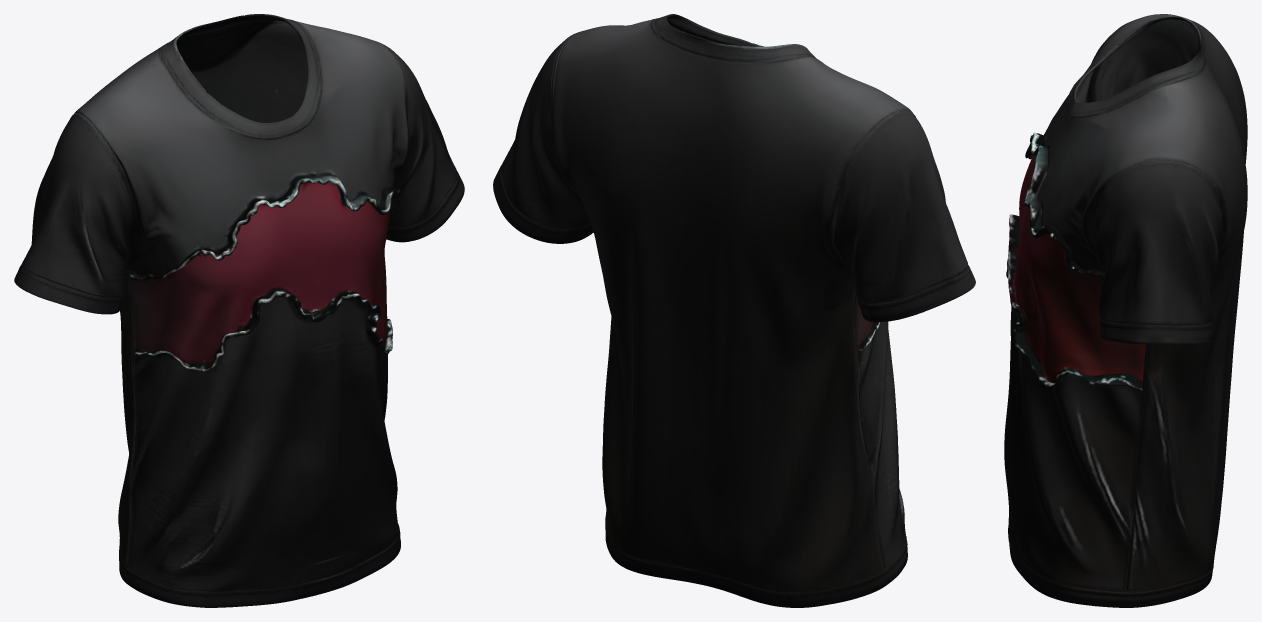
Rendered from shift.glb.
3 renders of one model, left to right at view 1: azimuth 30°, elevation 25°; view 2: azimuth 150°, elevation 25°; view 3: azimuth 270°, elevation 25°, orthographic. The views are drawn at different scales.
Parts seen in each view (by area): view 1: tripo_node_6b3e7069-6b7f-41dc-99d8-7af13a437c91; view 2: tripo_node_6b3e7069-6b7f-41dc-99d8-7af13a437c91; view 3: tripo_node_6b3e7069-6b7f-41dc-99d8-7af13a437c91.
Boxes of the visible parts, x1,y1,x2,y2 form: tripo_node_6b3e7069-6b7f-41dc-99d8-7af13a437c91: [14, 14, 464, 607]; tripo_node_6b3e7069-6b7f-41dc-99d8-7af13a437c91: [493, 14, 975, 607]; tripo_node_6b3e7069-6b7f-41dc-99d8-7af13a437c91: [1004, 14, 1247, 607].
Bounding box in the file's own units: 0.888 × 0.9798 × 0.4253.
1 material, 1 textured.
